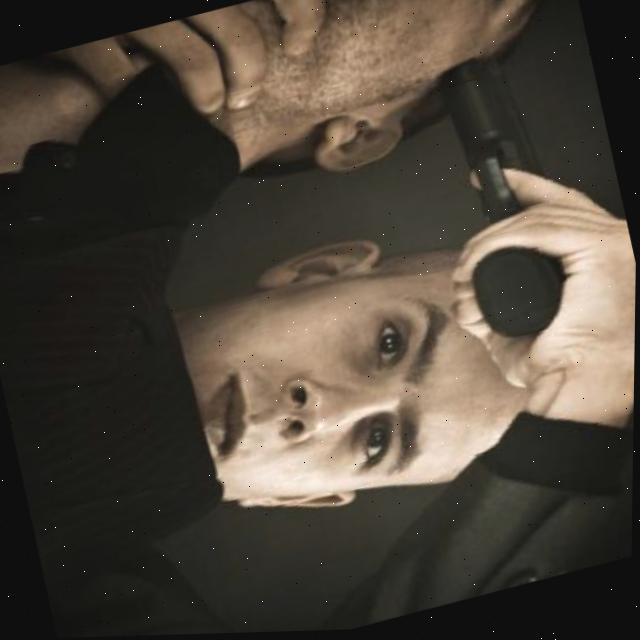gun: (430, 45, 589, 352)
